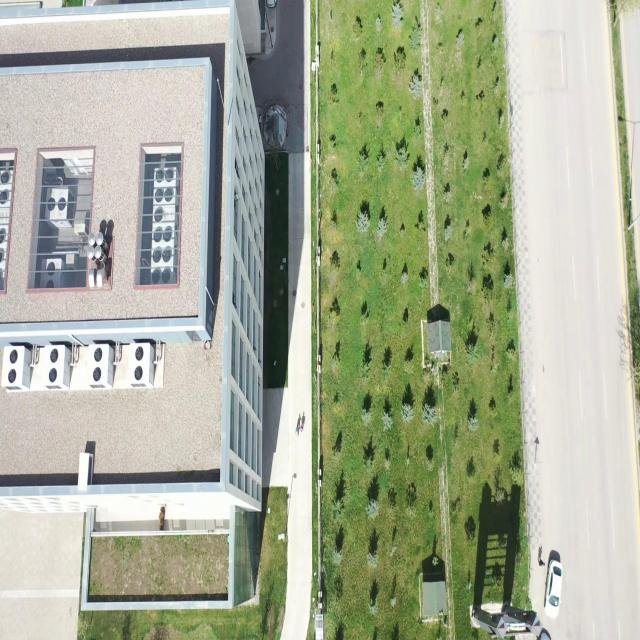p3rson: (539, 558, 545, 567), (296, 427, 299, 436), (300, 426, 303, 433)
